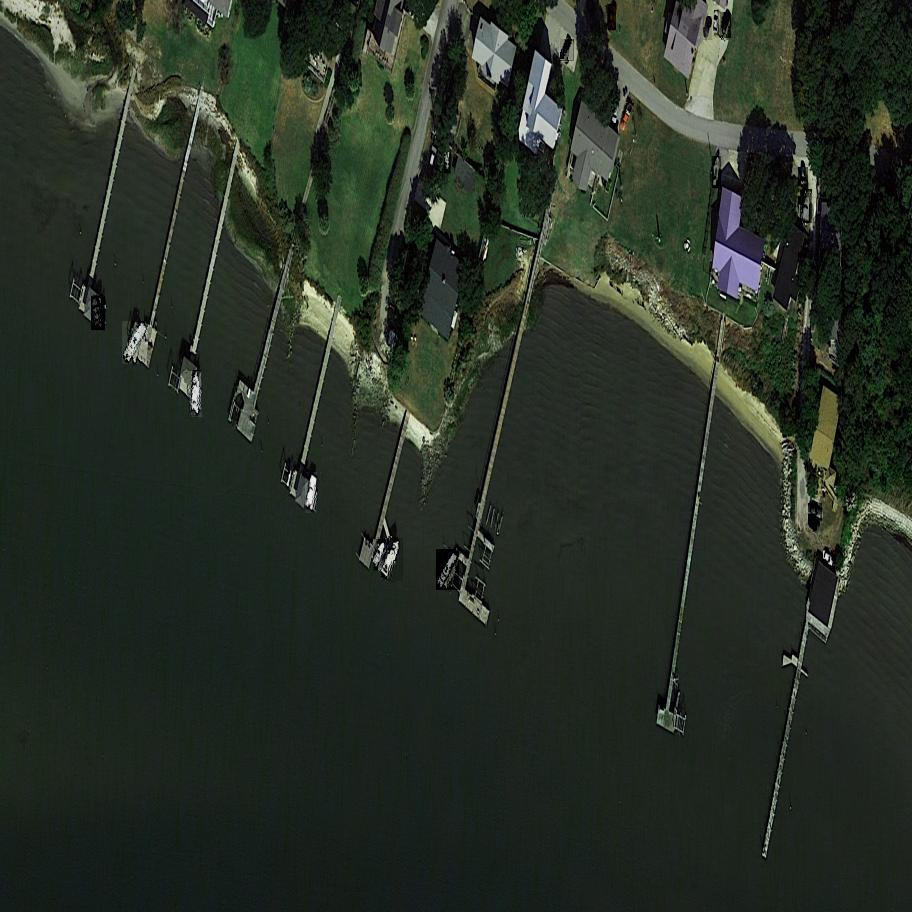ship: (121, 321, 150, 364), (435, 549, 462, 591), (380, 538, 405, 581), (191, 371, 203, 417), (373, 539, 390, 571), (305, 473, 318, 513), (92, 295, 106, 331), (800, 189, 813, 224), (712, 156, 723, 188), (444, 152, 451, 173), (518, 247, 526, 262)
small-vehicle: (619, 103, 635, 133), (805, 502, 827, 521), (719, 12, 733, 39), (820, 549, 838, 567), (560, 40, 575, 61), (703, 17, 715, 40), (806, 516, 821, 533), (798, 166, 808, 187), (611, 98, 619, 124), (609, 4, 616, 29), (715, 11, 719, 35)
